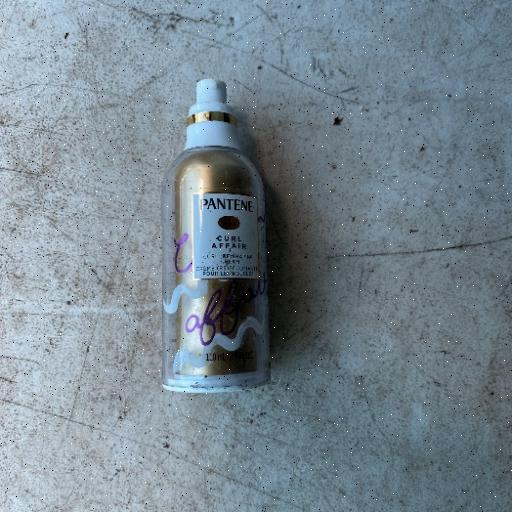Metal: (160, 78, 272, 394)
